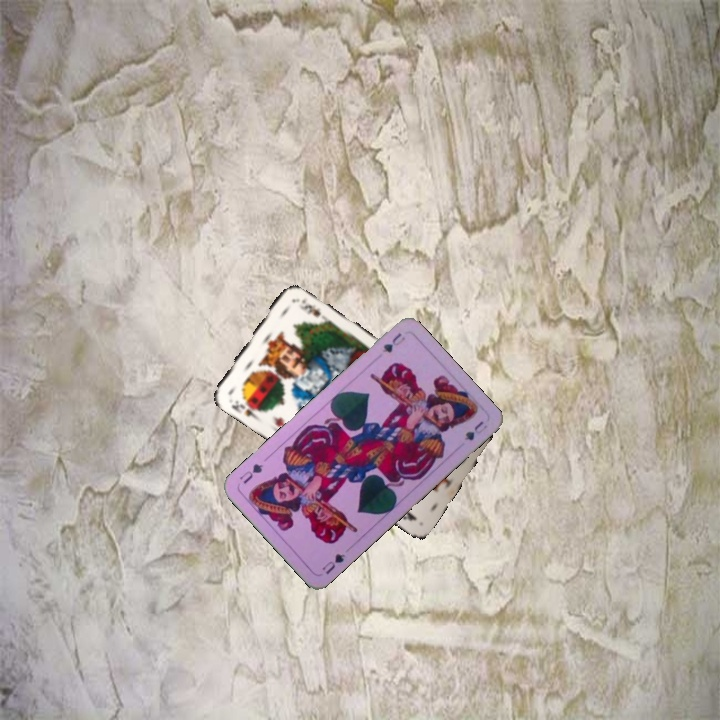GU: (318, 549, 348, 577), (378, 329, 408, 355)
SK: (228, 396, 264, 422)
